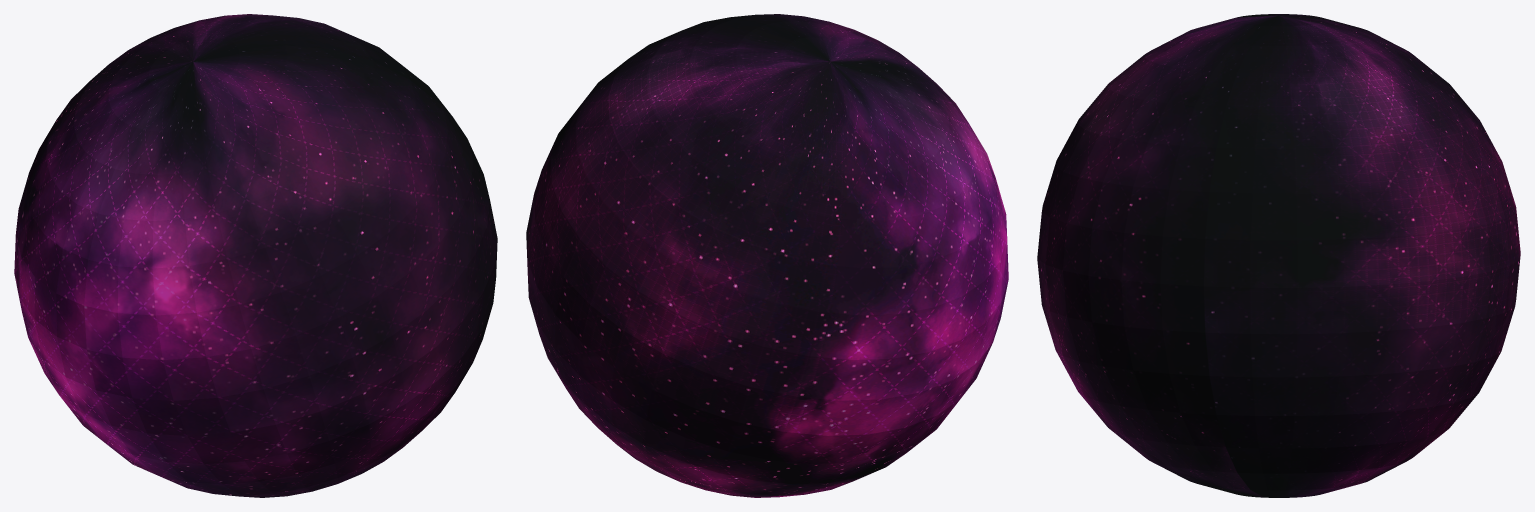
File: fire_blanket_free_low_poly.glb
3 views of the same model, side by side, from view 1: azimuth 30°, elevation 25°; view 2: azimuth 150°, elevation 25°; view 3: azimuth 270°, elevation 25° (orthographic).
Parts seen in each view (by area): view 1: Sphere_0; view 2: Sphere_0; view 3: Sphere_0.
Boxes of the visible parts, bbox=[...] form: Sphere_0: bbox=[14, 14, 497, 497]; Sphere_0: bbox=[526, 14, 1008, 497]; Sphere_0: bbox=[1037, 14, 1520, 497].
Bounding box in the file's own units: 1157 × 1160 × 1162.
Materials: 3 (3 with a texture image).
